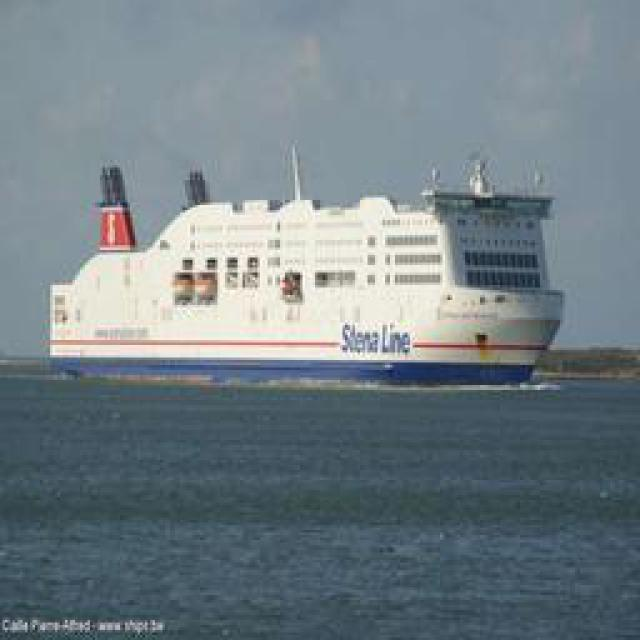Ship: (55, 151, 555, 376)
